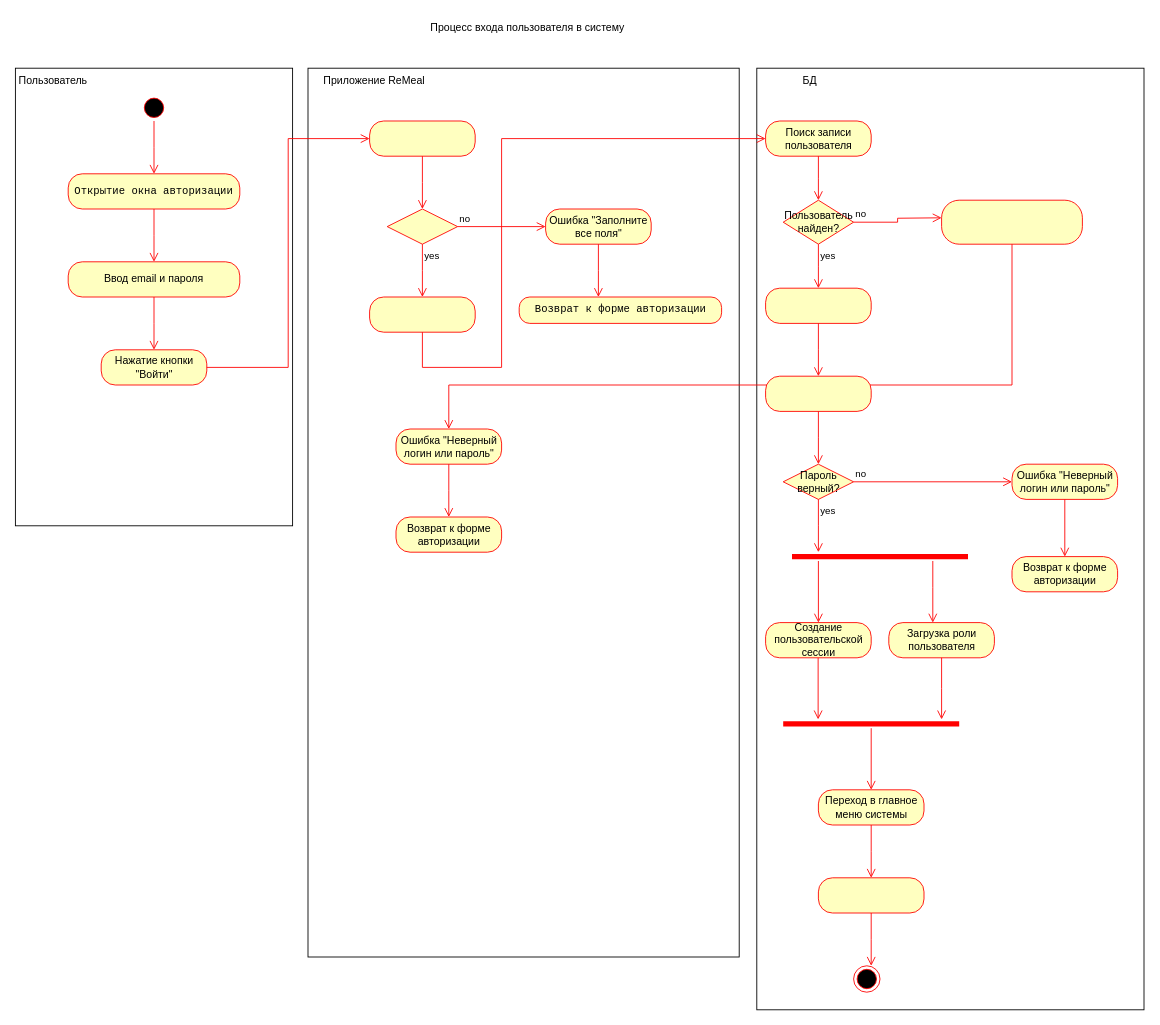
The diagram is 1160 pixels wide and 1025 high, and some of its shapes have lost their labels. Each missing label, with the centre of its shape:
Возврат результата "Пользователь не найден": (x=1011, y=221)
Поиск пользователя: (x=422, y=314)
Получение данных пользователя: (x=818, y=305)
Поля заполнены?: (x=422, y=226)
Проверка заполнения полей: (x=422, y=138)
Проверка хеша пароля: (x=818, y=393)
Сохранение информации о входе: (x=871, y=895)
